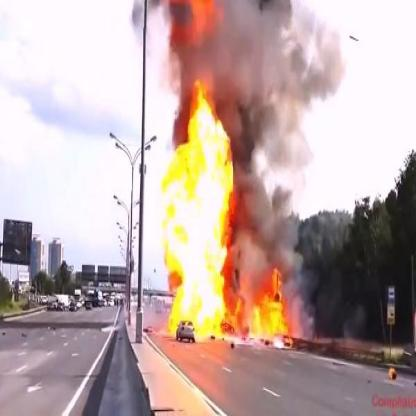fire: (162, 84, 234, 344), (240, 274, 292, 348)
